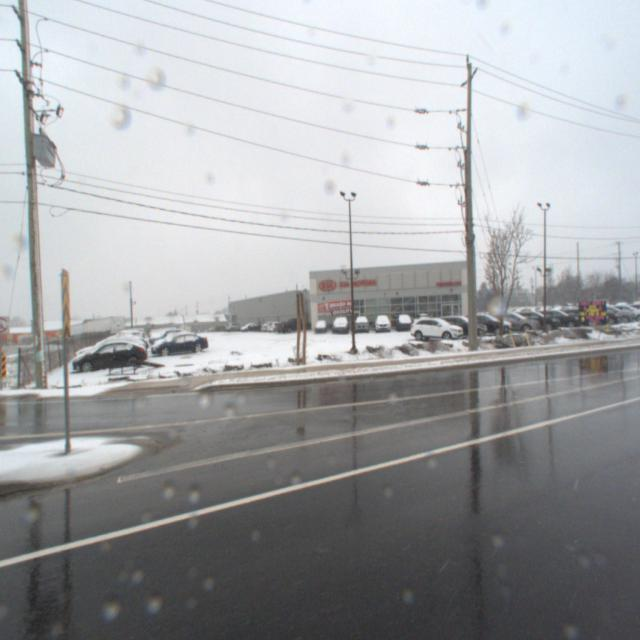Car: (68, 336, 147, 370), (73, 332, 145, 365), (407, 317, 463, 345), (146, 329, 208, 354), (456, 314, 510, 338), (432, 317, 486, 341), (483, 314, 539, 337), (391, 314, 411, 334), (331, 314, 348, 334), (372, 314, 388, 334), (310, 317, 328, 334), (352, 315, 368, 334)
